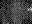person: (26, 7, 31, 12)
